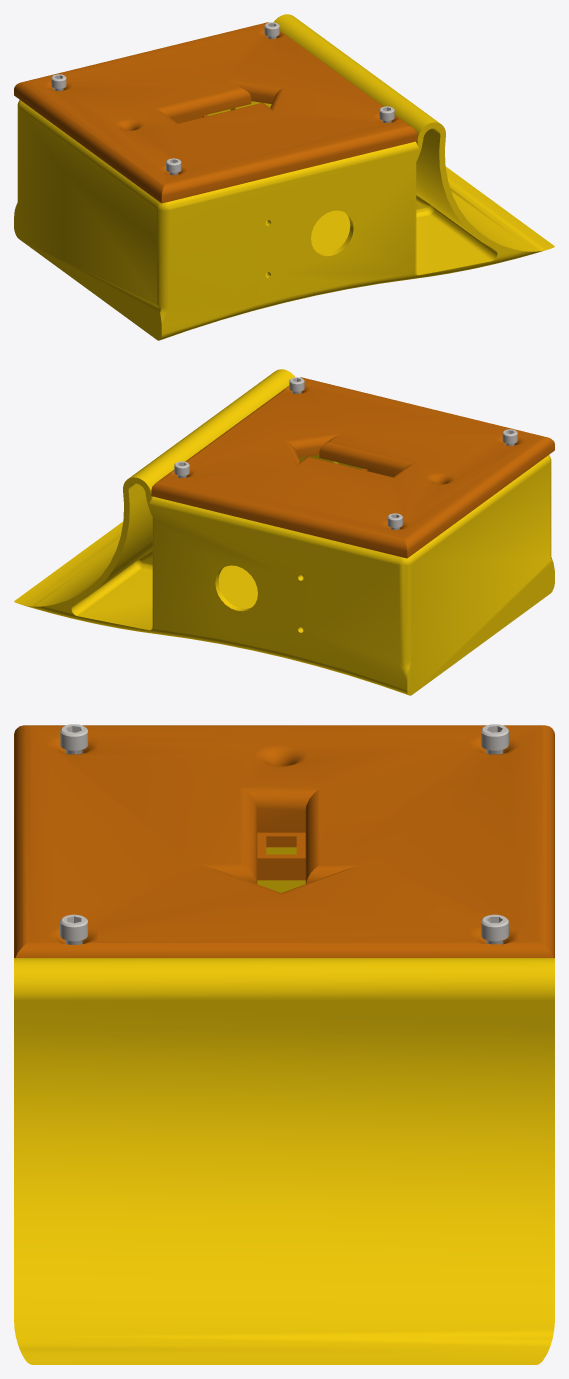
File: cuna-casco.glb
3 renders of one model, top to bottom at view 1: azimuth 30°, elevation 25°; view 2: azimuth 150°, elevation 25°; view 3: azimuth 270°, elevation 25°, orthographic. The views are drawn at different scales.
Parts seen in each view (by area): view 1: casco; view 2: casco; view 3: casco.
Boxes of the visible parts, bbox=[...] form: casco: bbox=[14, 14, 554, 340]; casco: bbox=[14, 369, 554, 695]; casco: bbox=[14, 724, 554, 1364].
Size of the model in its own units: 0.14 by 0.0567 by 0.09.
